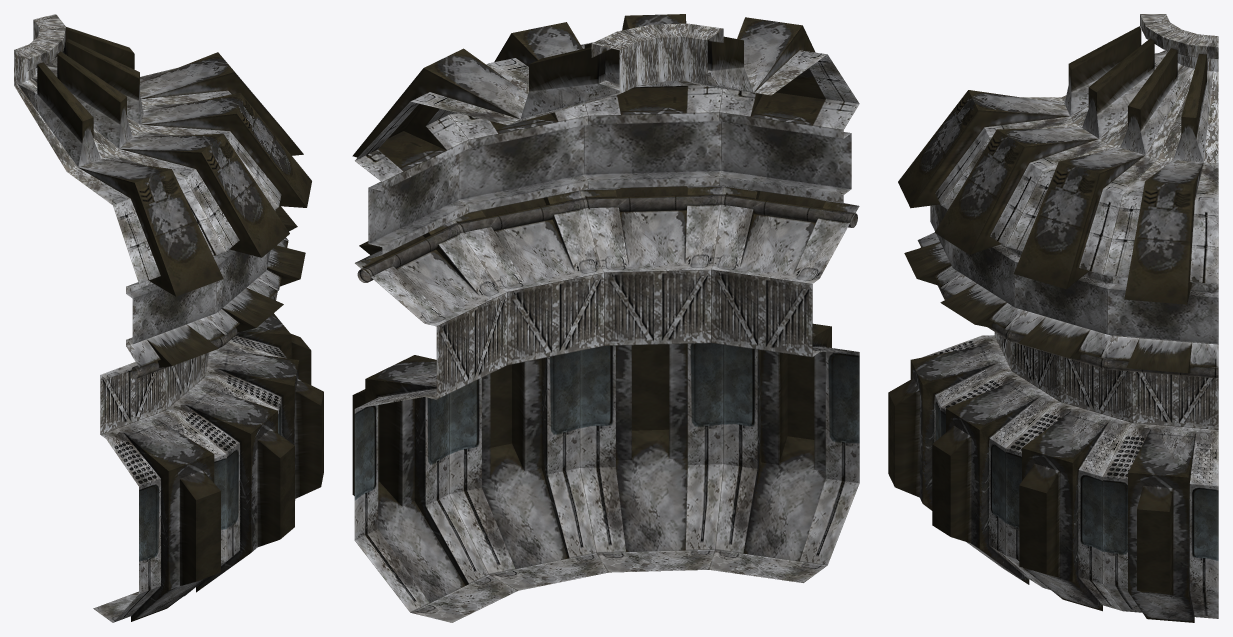
The model's file is strct_WH_Z1_wall_corner.fbx.
3 renders of one model, left to right at view 1: azimuth 30°, elevation 25°; view 2: azimuth 150°, elevation 25°; view 3: azimuth 270°, elevation 25°, orthographic. The views are drawn at different scales.
Parts seen in each view (by area): view 1: polySurface273; view 2: polySurface273; view 3: polySurface273.
Part boxes in pixels (x1,y1,x2,y2): polySurface273: (14,14,323,622); polySurface273: (352,14,859,622); polySurface273: (888,14,1218,622).
Bounding box in the file's own units: 809 × 1361 × 806.
